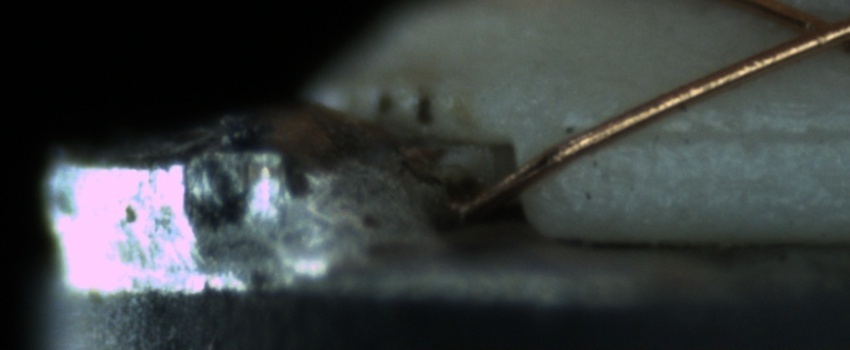CL: (767, 1, 850, 63)
DL: (608, 97, 844, 166)
